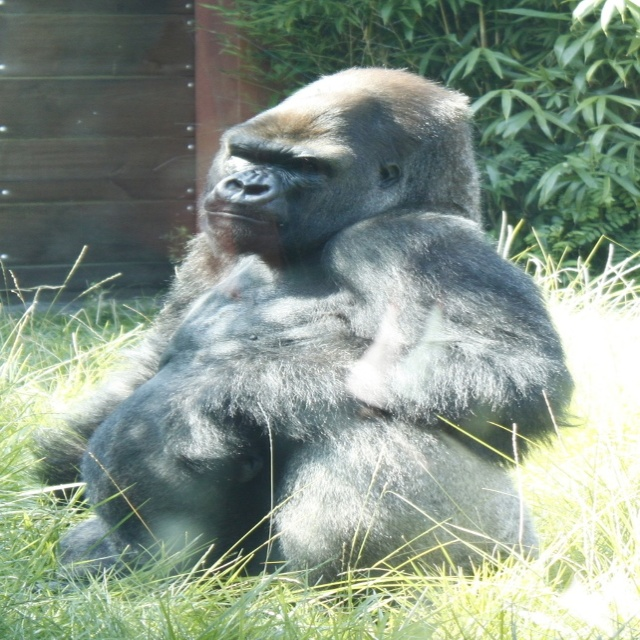Monkey: (36, 65, 575, 593)
